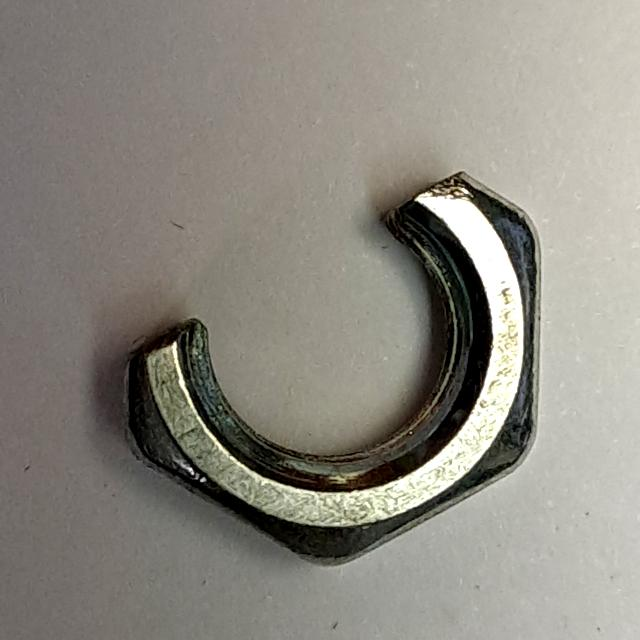Fracture: (109, 154, 556, 587)
